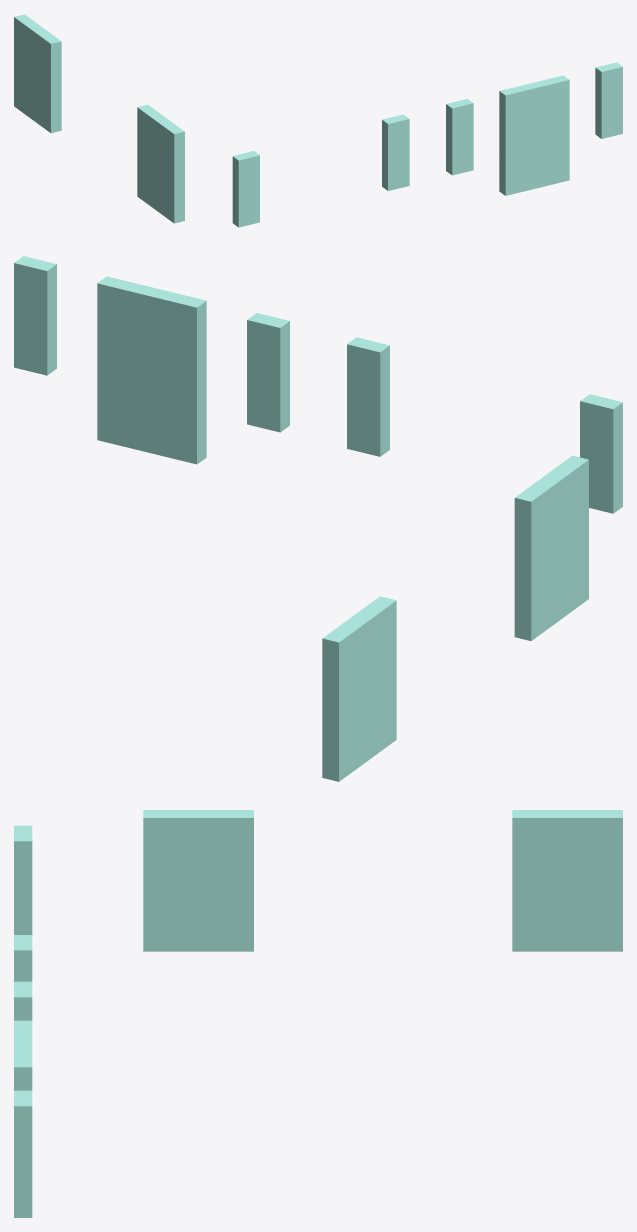
File: pozzi vetri.obj
3 views of the same model, one above another, from view 1: azimuth 30°, elevation 25°; view 2: azimuth 150°, elevation 25°; view 3: azimuth 270°, elevation 25° (orthographic). The views are drawn at different scales.
Bounding box in the file's own units: 15.2 × 3.6 × 13.2.
1 material, 1 textured.
